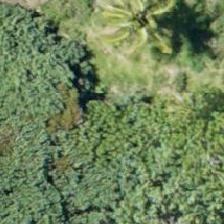coconut_tree: (104, 0, 194, 65)
